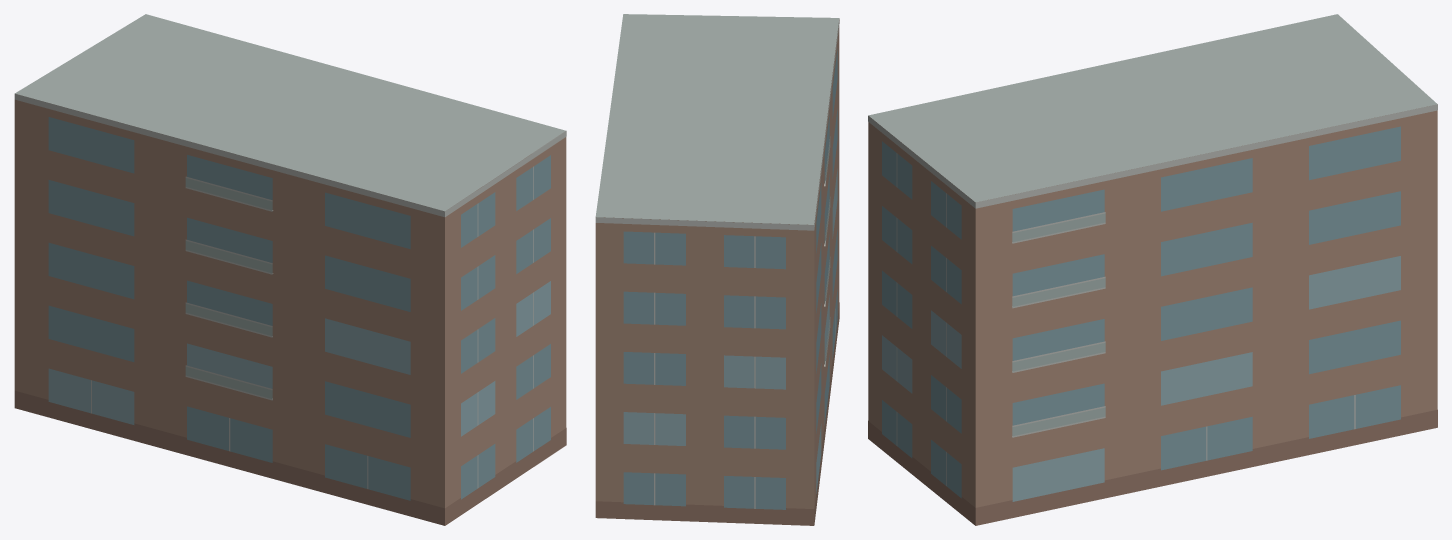
The model's file is survey-upis-32770015.glb.
3 renders of one model, left to right at view 1: azimuth 30°, elevation 25°; view 2: azimuth 150°, elevation 25°; view 3: azimuth 270°, elevation 25°, orthographic. The views are drawn at different scales.
Visible parts, largest first — view 1: survey-upis-32770015.tmp; view 2: survey-upis-32770015.tmp; view 3: survey-upis-32770015.tmp.
Part boxes in pixels (x1=…): survey-upis-32770015.tmp: x1=14, y1=14, x2=566, y2=525; survey-upis-32770015.tmp: x1=595, y1=14, x2=839, y2=525; survey-upis-32770015.tmp: x1=868, y1=14, x2=1437, y2=525.
Size of the model in its own units: 16.01 by 12.8 by 20.44.
